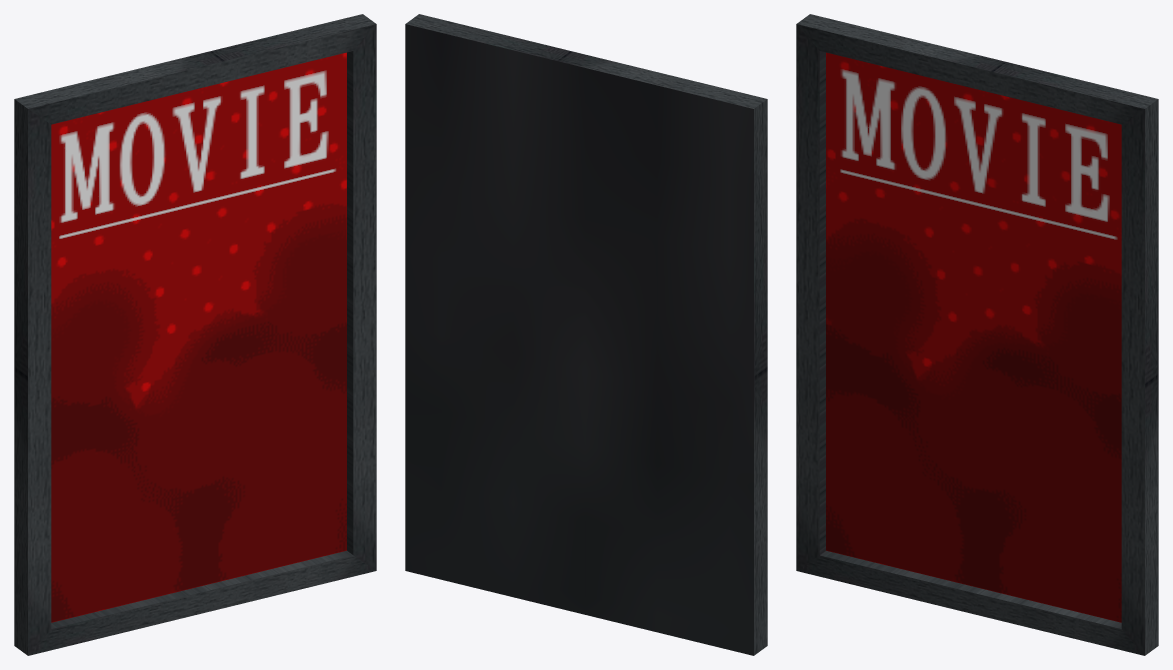
Rendered from MoviePoster.glb.
3 views of the same model, side by side, from view 1: azimuth 30°, elevation 25°; view 2: azimuth 150°, elevation 25°; view 3: azimuth 330°, elevation 25° (orthographic).
Visible parts, largest first — view 1: Frame; view 2: Frame; view 3: Frame.
Boxes of the visible parts, x1=… form: Frame: x1=14, y1=14, x2=376, y2=655; Frame: x1=405, y1=14, x2=767, y2=655; Frame: x1=796, y1=14, x2=1158, y2=655.
Bounding box in the file's own units: 1.35 × 2.03 × 0.0924.
Materials: 2 (2 with a texture image).
